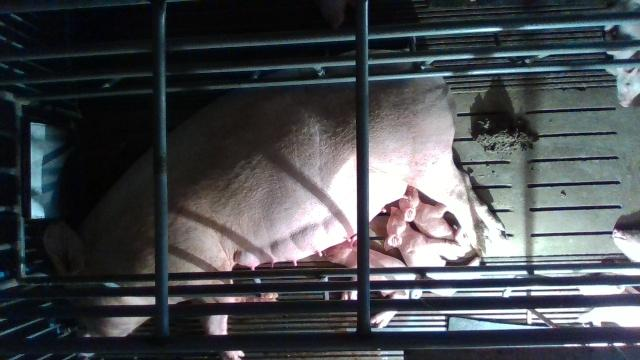piglet: (323, 235, 416, 299), (383, 206, 451, 267), (398, 185, 455, 242), (607, 24, 640, 107)
sow-sleep-lactate: (45, 47, 507, 337)
